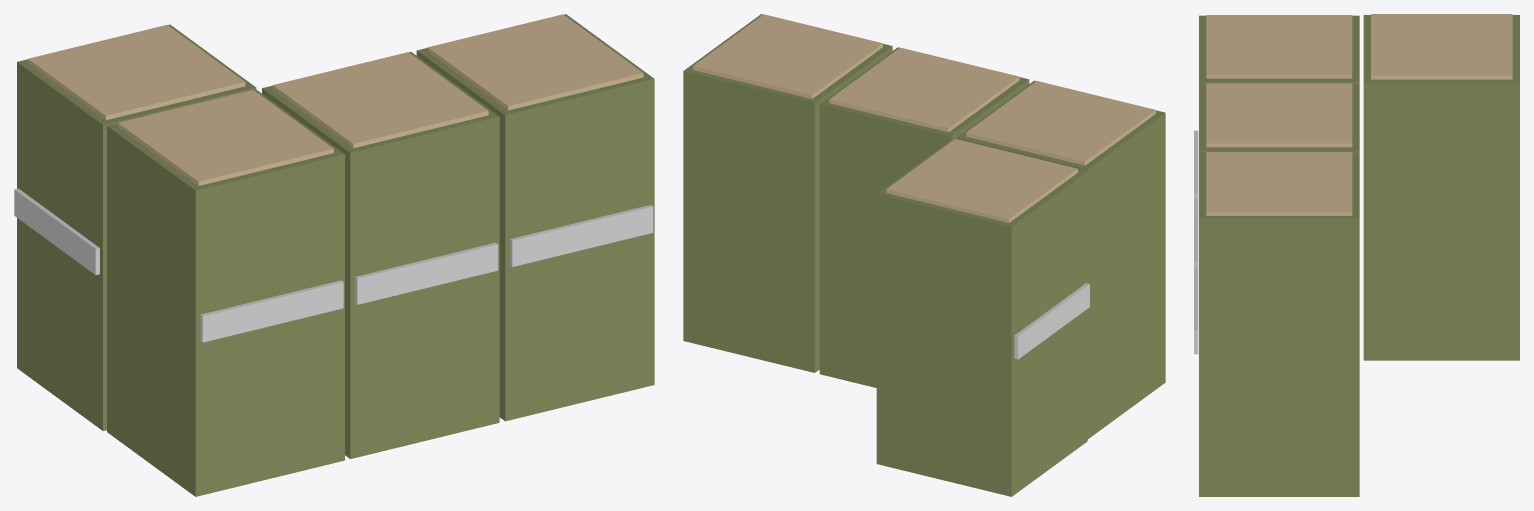
Rendered from SM_HescoRemate_v0_MallaLimpia_e0_Sano_LOD1.fbx.
3 renders of one model, left to right at view 1: azimuth 30°, elevation 25°; view 2: azimuth 150°, elevation 25°; view 3: azimuth 270°, elevation 25°, orthographic. The views are drawn at different scales.
Visible parts, largest first — view 1: SM_hesco_piezas_v20_LOD1; view 2: SM_hesco_piezas_v20_LOD1; view 3: SM_hesco_piezas_v20_LOD1.
Boxes of the visible parts, x1,y1,x2,y2 form: SM_hesco_piezas_v20_LOD1: (14, 14, 654, 496); SM_hesco_piezas_v20_LOD1: (683, 14, 1165, 496); SM_hesco_piezas_v20_LOD1: (1194, 14, 1519, 496).
Size of the model in its own units: 3.34 by 2.13 by 2.23.
